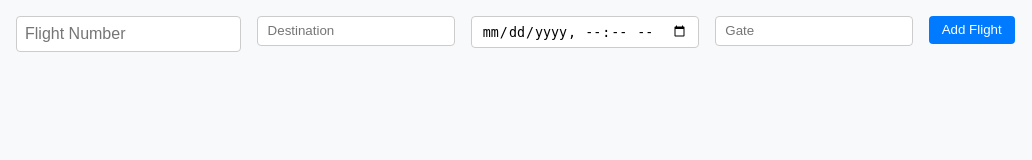
AddFlightForm › shows validation errors on empty fields
This screenshot has width=1032, height=160.
Click the button "Add Flight".
click(972, 30)  # box [929,16,1014,44]
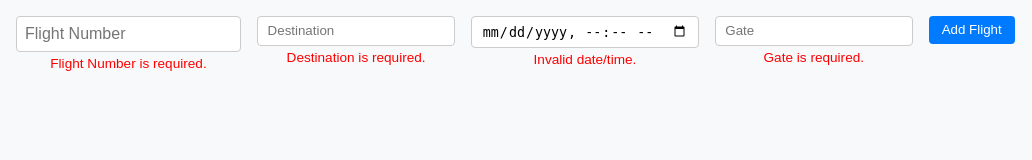
Expected: the text "Flight Number is required." is shown, [50,56,207,71]
Expected: the text "Destination is required." is shown, [287,50,426,65]
Expected: the text "Gate is required." is shown, [764,50,864,65]
